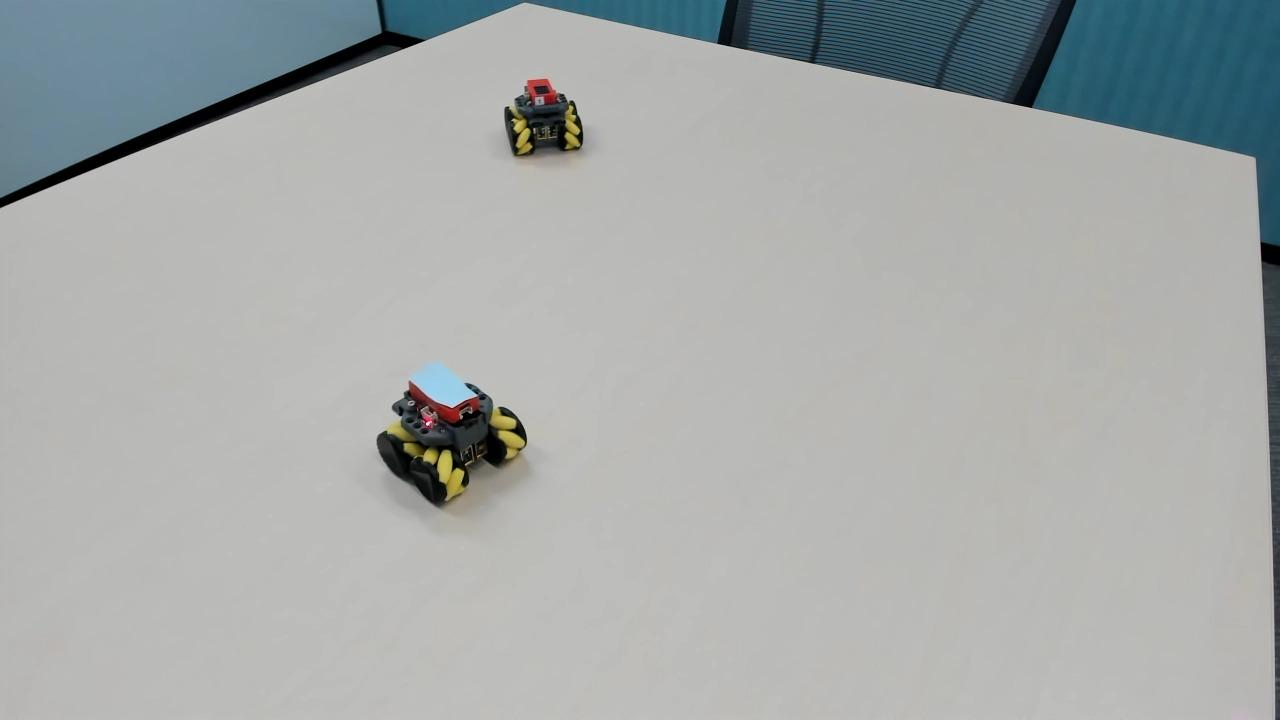B-Robot: (370, 357, 542, 518)
R-Robot: (494, 68, 596, 171)
